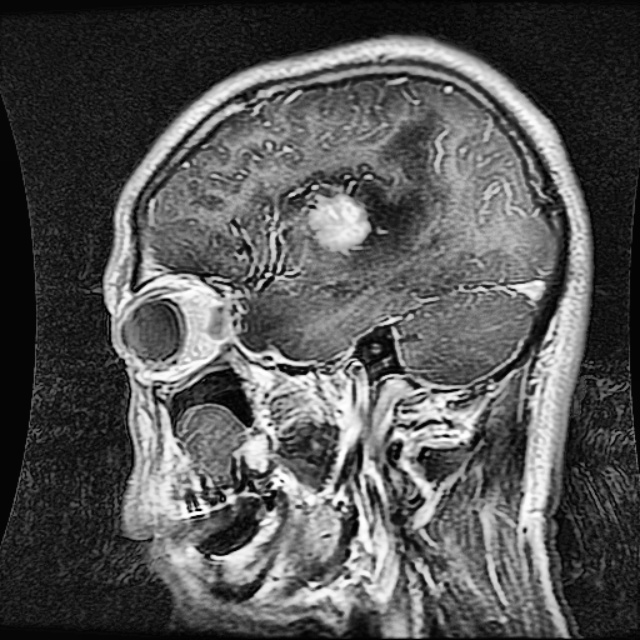Meningioma: (310, 195, 367, 253)
